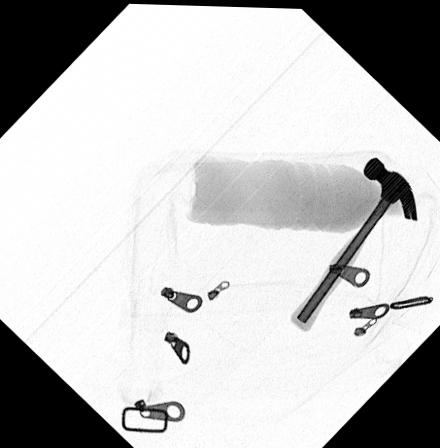Hammer: (290, 154, 418, 329)
